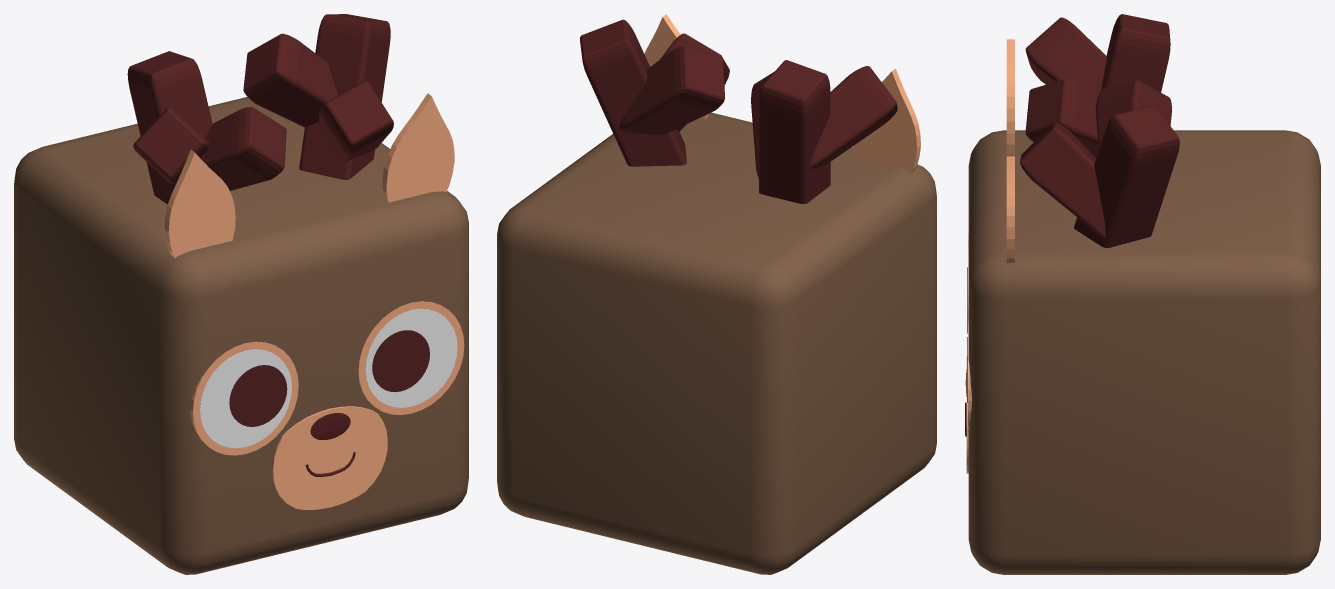
The model's file is Reindeer.fbx.
3 views of the same model, side by side, from view 1: azimuth 30°, elevation 25°; view 2: azimuth 150°, elevation 25°; view 3: azimuth 270°, elevation 25° (orthographic). The views are drawn at different scales.
Parts seen in each view (by area): view 1: Reindeer; view 2: Reindeer; view 3: Reindeer.
Boxes of the visible parts, left/top/right/bottom form: Reindeer: left=14, top=14, right=468, bottom=574; Reindeer: left=497, top=14, right=936, bottom=574; Reindeer: left=965, top=14, right=1320, bottom=574.
Bounding box in the file's own units: 200 × 285 × 202.
